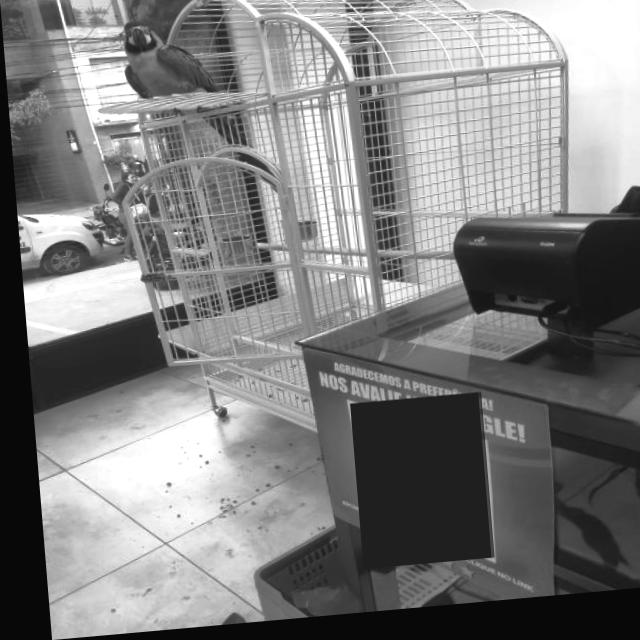qr_code: (343, 401, 484, 575)
